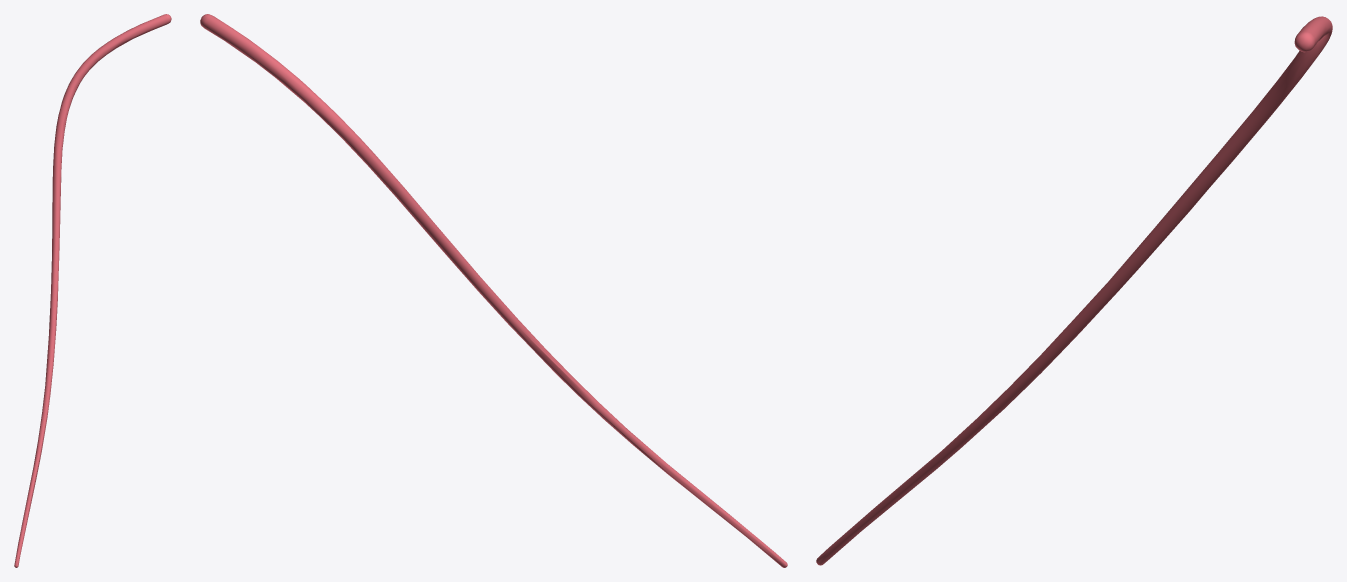
The model's file is fma22905_fj2372.glb.
3 views of the same model, side by side, from view 1: azimuth 30°, elevation 25°; view 2: azimuth 150°, elevation 25°; view 3: azimuth 270°, elevation 25° (orthographic). The views are drawn at different scales.
Visible parts, largest first — view 1: FMA22905_FJ2372; view 2: FMA22905_FJ2372; view 3: FMA22905_FJ2372.
Boxes of the visible parts, box(x1,y1,x2,y2) form: FMA22905_FJ2372: box(14, 14, 171, 567); FMA22905_FJ2372: box(200, 14, 787, 567); FMA22905_FJ2372: box(816, 16, 1332, 565).
Size of the model in its own units: 0.0421 by 0.0578 by 0.0339.
